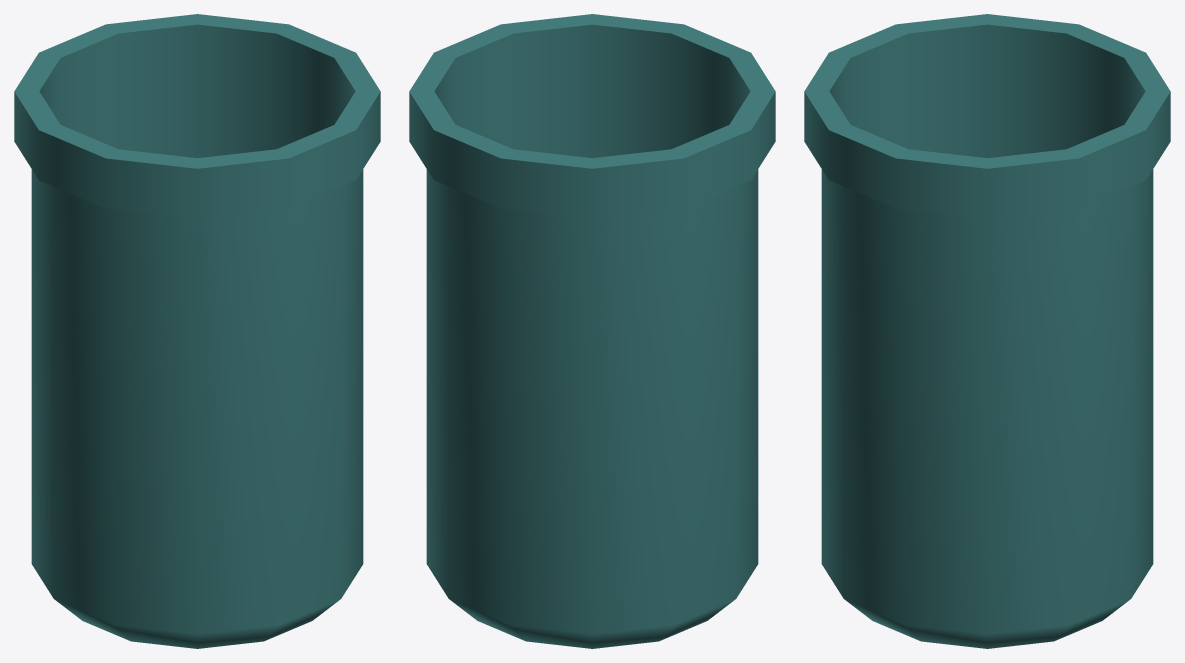
The model's file is Blub3.fbx.
3 views of the same model, side by side, from view 1: azimuth 30°, elevation 25°; view 2: azimuth 150°, elevation 25°; view 3: azimuth 270°, elevation 25° (orthographic).
Visible parts, largest first — view 1: pCylinder59; view 2: pCylinder59; view 3: pCylinder59.
Part boxes in pixels (x1,y1,x2,y2): pCylinder59: (14,14,380,648); pCylinder59: (409,14,775,648); pCylinder59: (804,14,1170,648).
Bounding box in the file's own units: 7.95 × 7.95 × 12.
